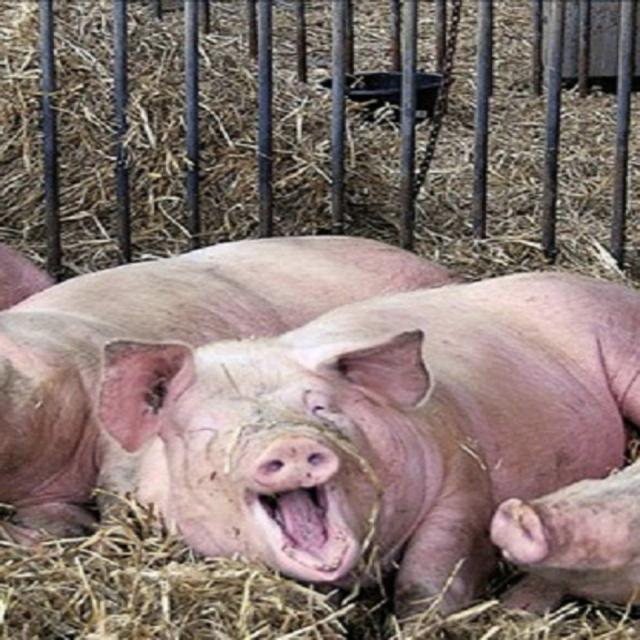pig: (101, 272, 640, 610), (1, 236, 460, 536), (491, 460, 640, 612)
